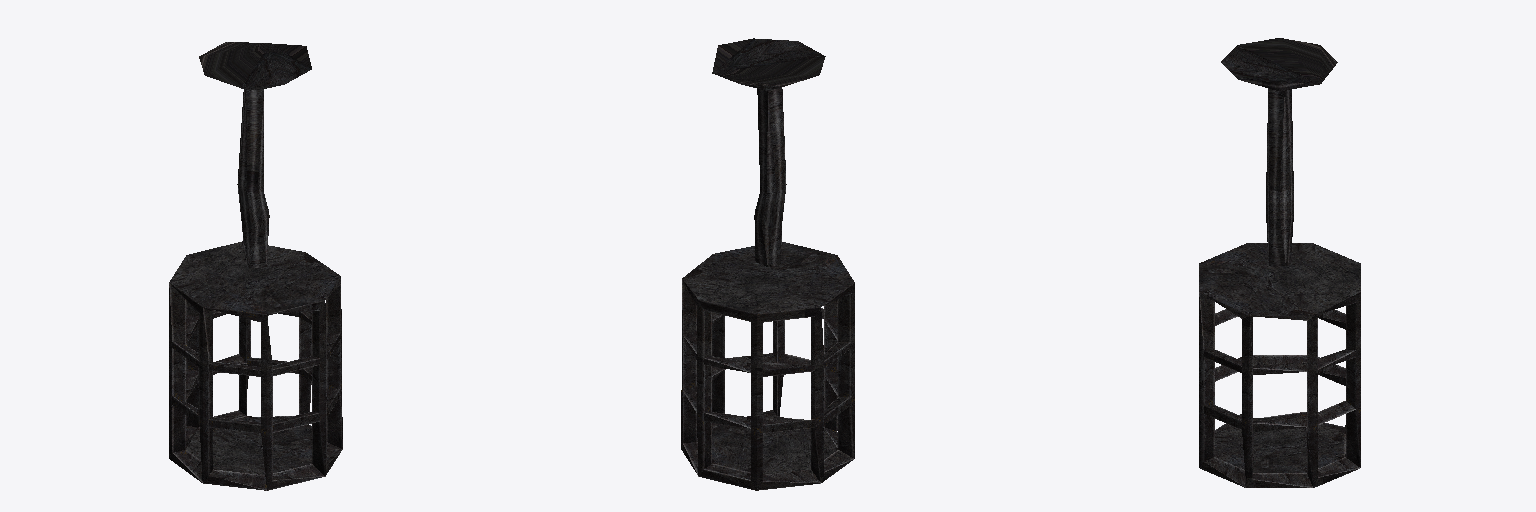
The picture shows the model from 3 angles: view 1: azimuth 30°, elevation 25°; view 2: azimuth 150°, elevation 25°; view 3: azimuth 270°, elevation 25°; orthographic projection.
Parts seen in each view (by area): view 1: Default_Layer; view 2: Default_Layer; view 3: Default_Layer.
Boxes of the visible parts, <box> form: Default_Layer: <box>169,42,342,490</box>; Default_Layer: <box>681,38,854,490</box>; Default_Layer: <box>1199,38,1360,487</box>.
Bounding box in the file's own units: 0.4621 × 1.25 × 0.4621.
Materials: 1 (1 with a texture image).